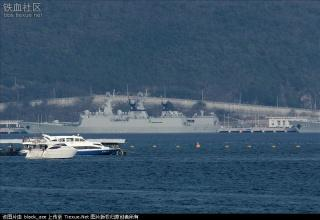yacht: (46, 132, 122, 156), (17, 141, 77, 165)
